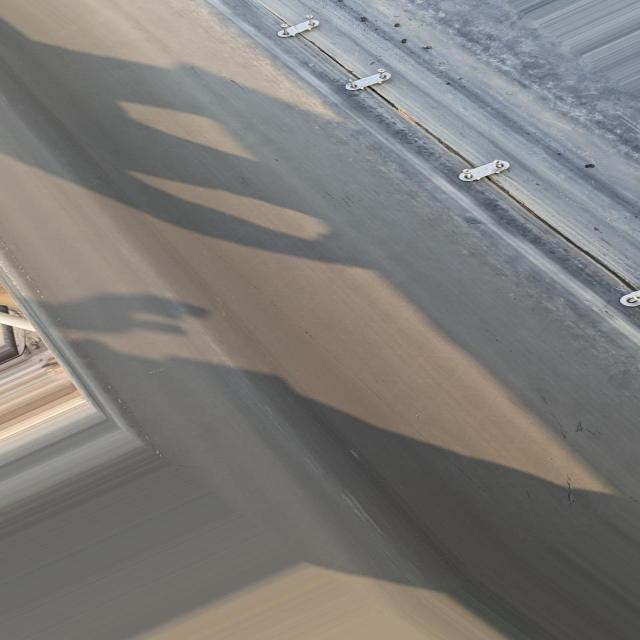patch work: (270, 9, 640, 332)
